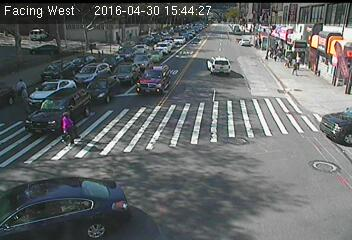neg: (108, 60, 121, 78), (131, 49, 143, 65), (151, 38, 160, 51)
pos: (53, 110, 78, 144), (11, 77, 32, 104)
